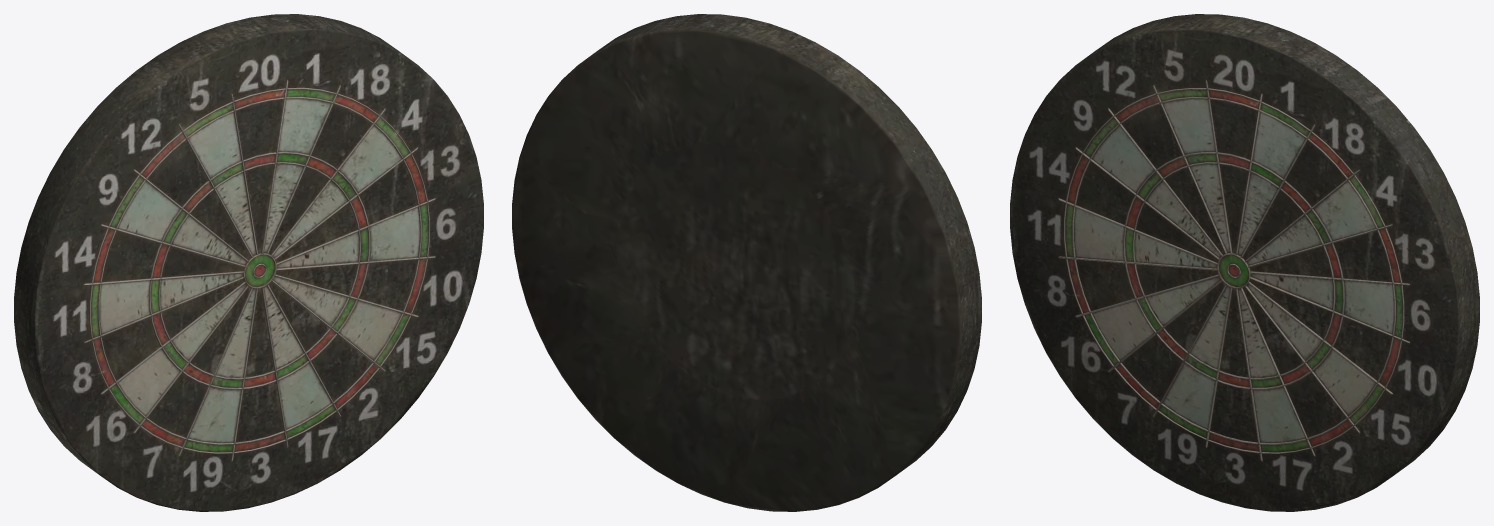
Rendered from dartboard.glb.
3 views of the same model, side by side, from view 1: azimuth 30°, elevation 25°; view 2: azimuth 150°, elevation 25°; view 3: azimuth 330°, elevation 25° (orthographic).
Visible parts, largest first — view 1: dartboard; view 2: dartboard; view 3: dartboard.
Part boxes in pixels (box(x1,y1,x2,y2)): dartboard: box(14, 14, 483, 511); dartboard: box(512, 14, 981, 511); dartboard: box(1010, 14, 1479, 511).
Bounding box in the file's own units: 0.4507 × 0.4507 × 0.0398.
1 material, 1 textured.
